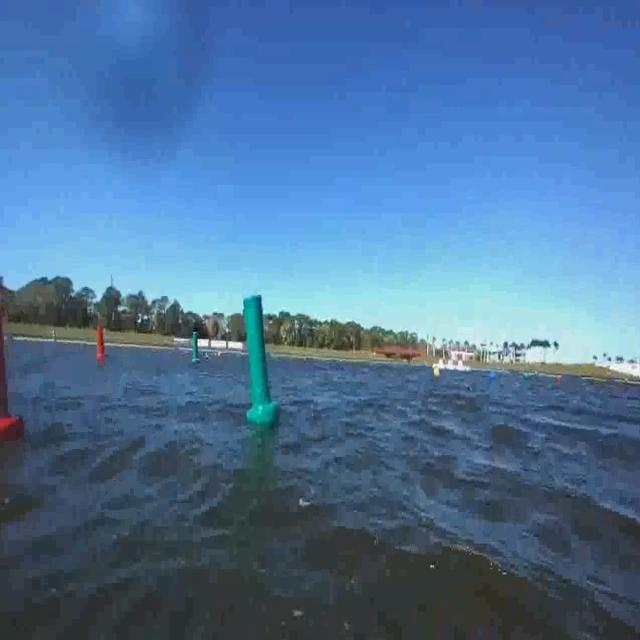green-column-buoy: (244, 292, 280, 426), (190, 334, 198, 364)
red-column-buoy: (0, 271, 24, 439), (94, 327, 105, 362)
